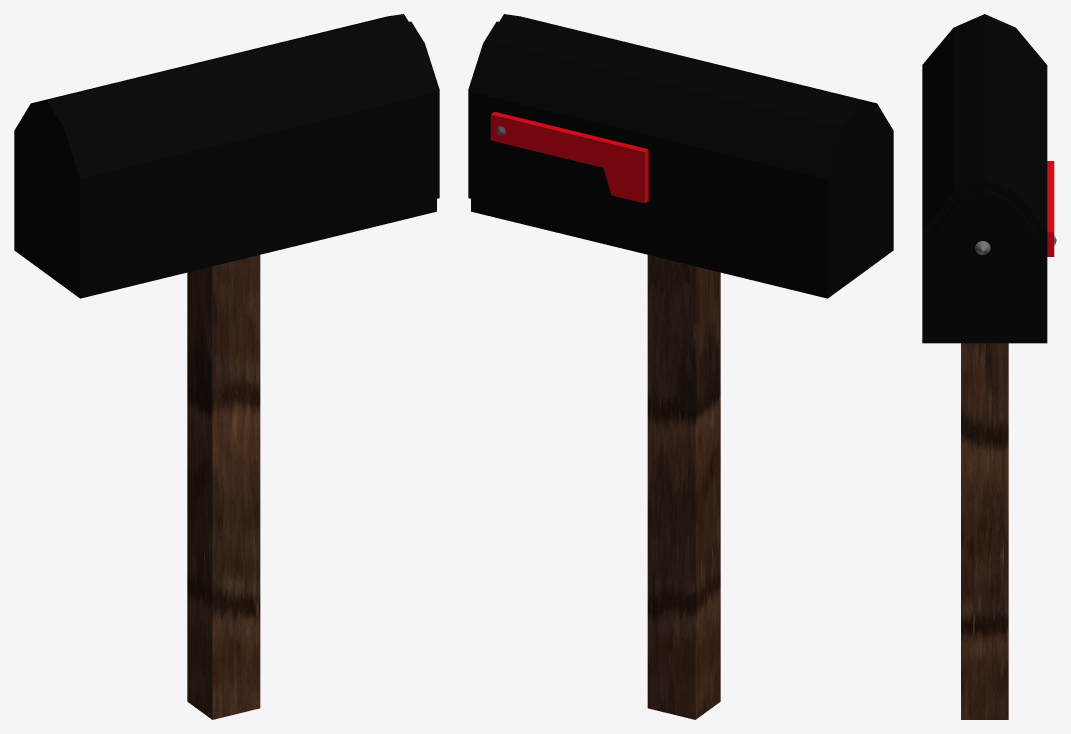
The model's file is mailbox.glb.
The picture shows the model from 3 angles, left to right: view 1: azimuth 30°, elevation 25°; view 2: azimuth 150°, elevation 25°; view 3: azimuth 270°, elevation 25°; orthographic projection. The views are drawn at different scales.
Parts seen in each view (by area): view 1: Cube.001, Cube; view 2: Cube.001, Cube, Cube.002; view 3: Cube.001, Cube, Cube.002.
Boxes of the visible parts, bbox=[...] form: Cube.001: bbox=[14, 14, 439, 298]; Cube: bbox=[187, 255, 260, 719]; Cube.001: bbox=[468, 14, 893, 298]; Cube: bbox=[647, 255, 720, 719]; Cube.002: bbox=[490, 111, 648, 203]; Cube.001: bbox=[922, 14, 1047, 343]; Cube: bbox=[961, 343, 1008, 719]; Cube.002: bbox=[1047, 161, 1054, 256].
Size of the model in its own units: 6.56 by 10.82 by 2.15.
Materials: 4 (1 with a texture image).
